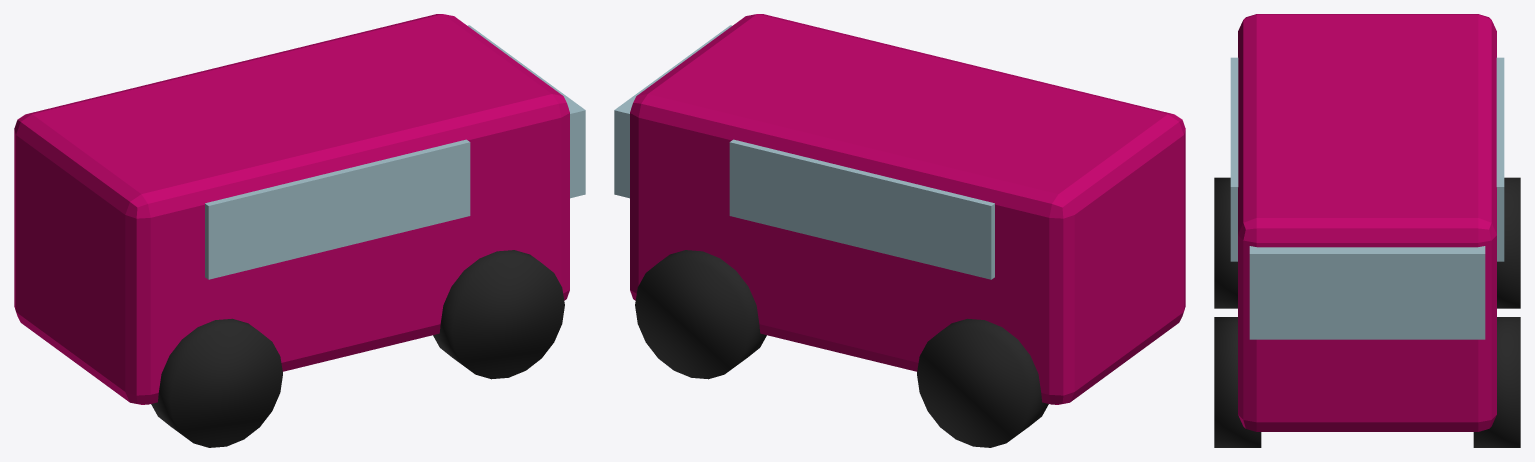
The model's file is car_van_m.glb.
3 renders of one model, left to right at view 1: azimuth 30°, elevation 25°; view 2: azimuth 150°, elevation 25°; view 3: azimuth 270°, elevation 25°, orthographic.
Visible parts, largest first — view 1: car_van_m; view 2: car_van_m; view 3: car_van_m.
Boxes of the visible parts, x1=… form: car_van_m: x1=14, y1=14, x2=585, y2=447; car_van_m: x1=614, y1=14, x2=1185, y2=447; car_van_m: x1=1214, y1=14, x2=1520, y2=447.
Size of the model in its own units: 0.227 by 0.12 by 0.13.
